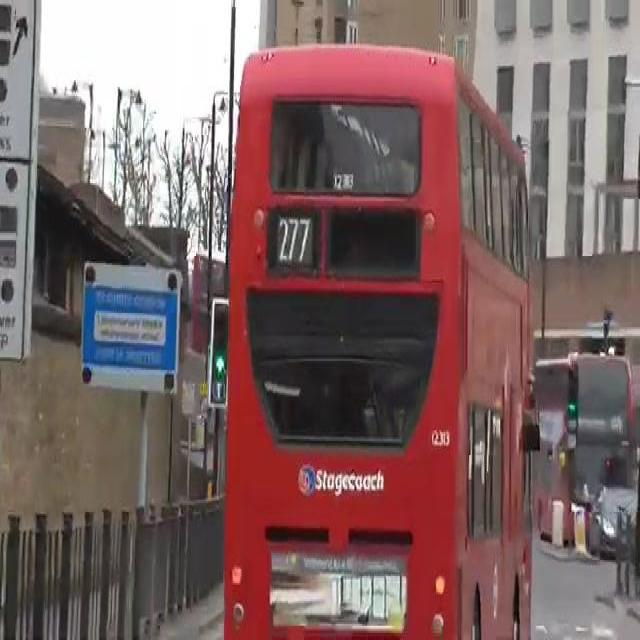motorcycle: (224, 42, 562, 640)
